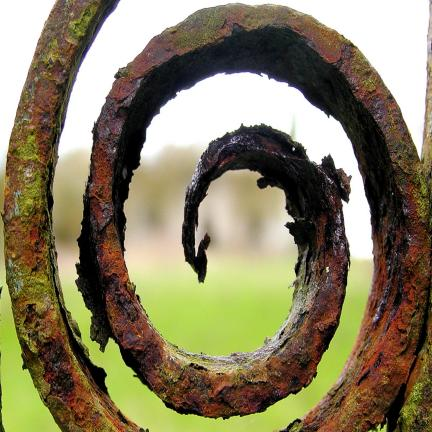karat: (78, 5, 431, 431)
